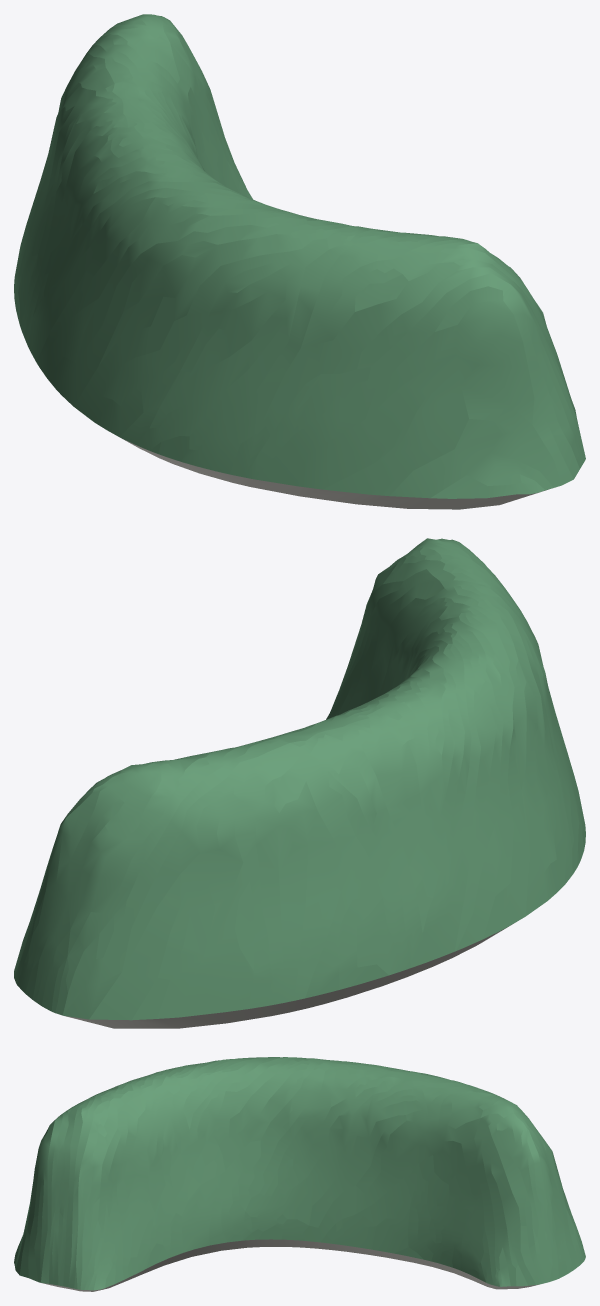
The model's file is island_asian_N.fbx.
The picture shows the model from 3 angles, top to bottom: view 1: azimuth 30°, elevation 25°; view 2: azimuth 150°, elevation 25°; view 3: azimuth 270°, elevation 25°; orthographic projection. The views are drawn at different scales.
Parts seen in each view (by area): view 1: island_asian_N; view 2: island_asian_N; view 3: island_asian_N.
Boxes of the visible parts, left/top/right/bottom form: island_asian_N: left=14, top=14, right=585, bottom=509; island_asian_N: left=14, top=538, right=585, bottom=1028; island_asian_N: left=14, top=1057, right=585, bottom=1291.
Bounding box in the file's own units: 3898 × 2542 × 8093.
